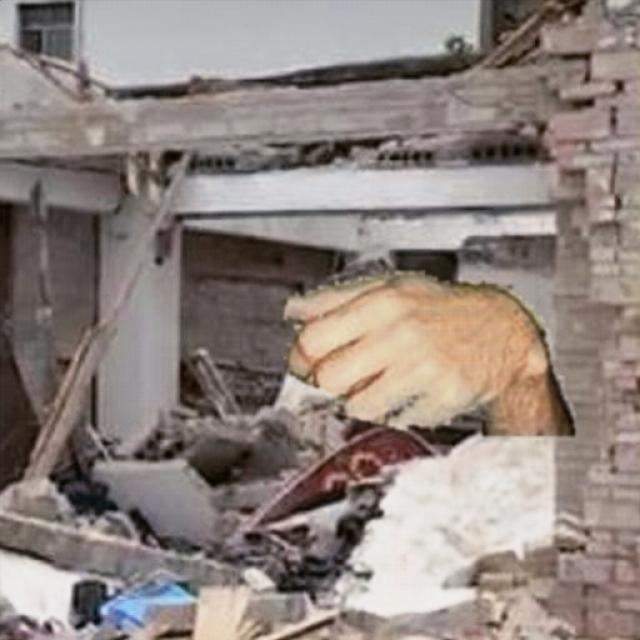Person in Rubble: (284, 271, 574, 435)
